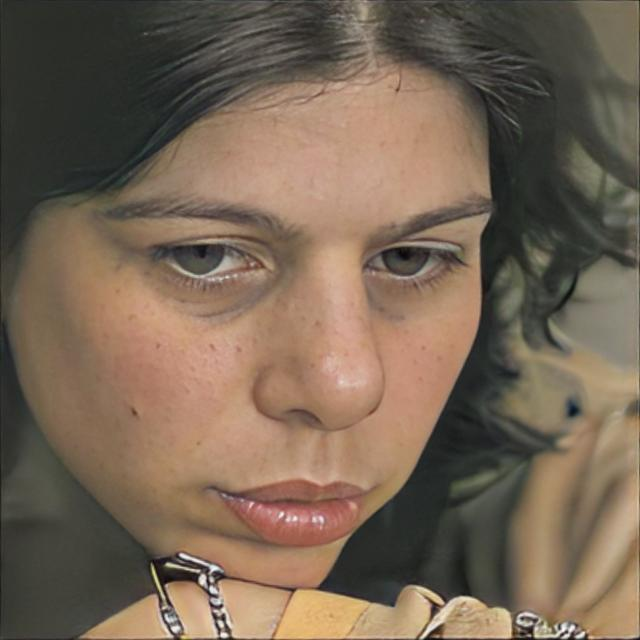sad: (6, 31, 497, 590)
